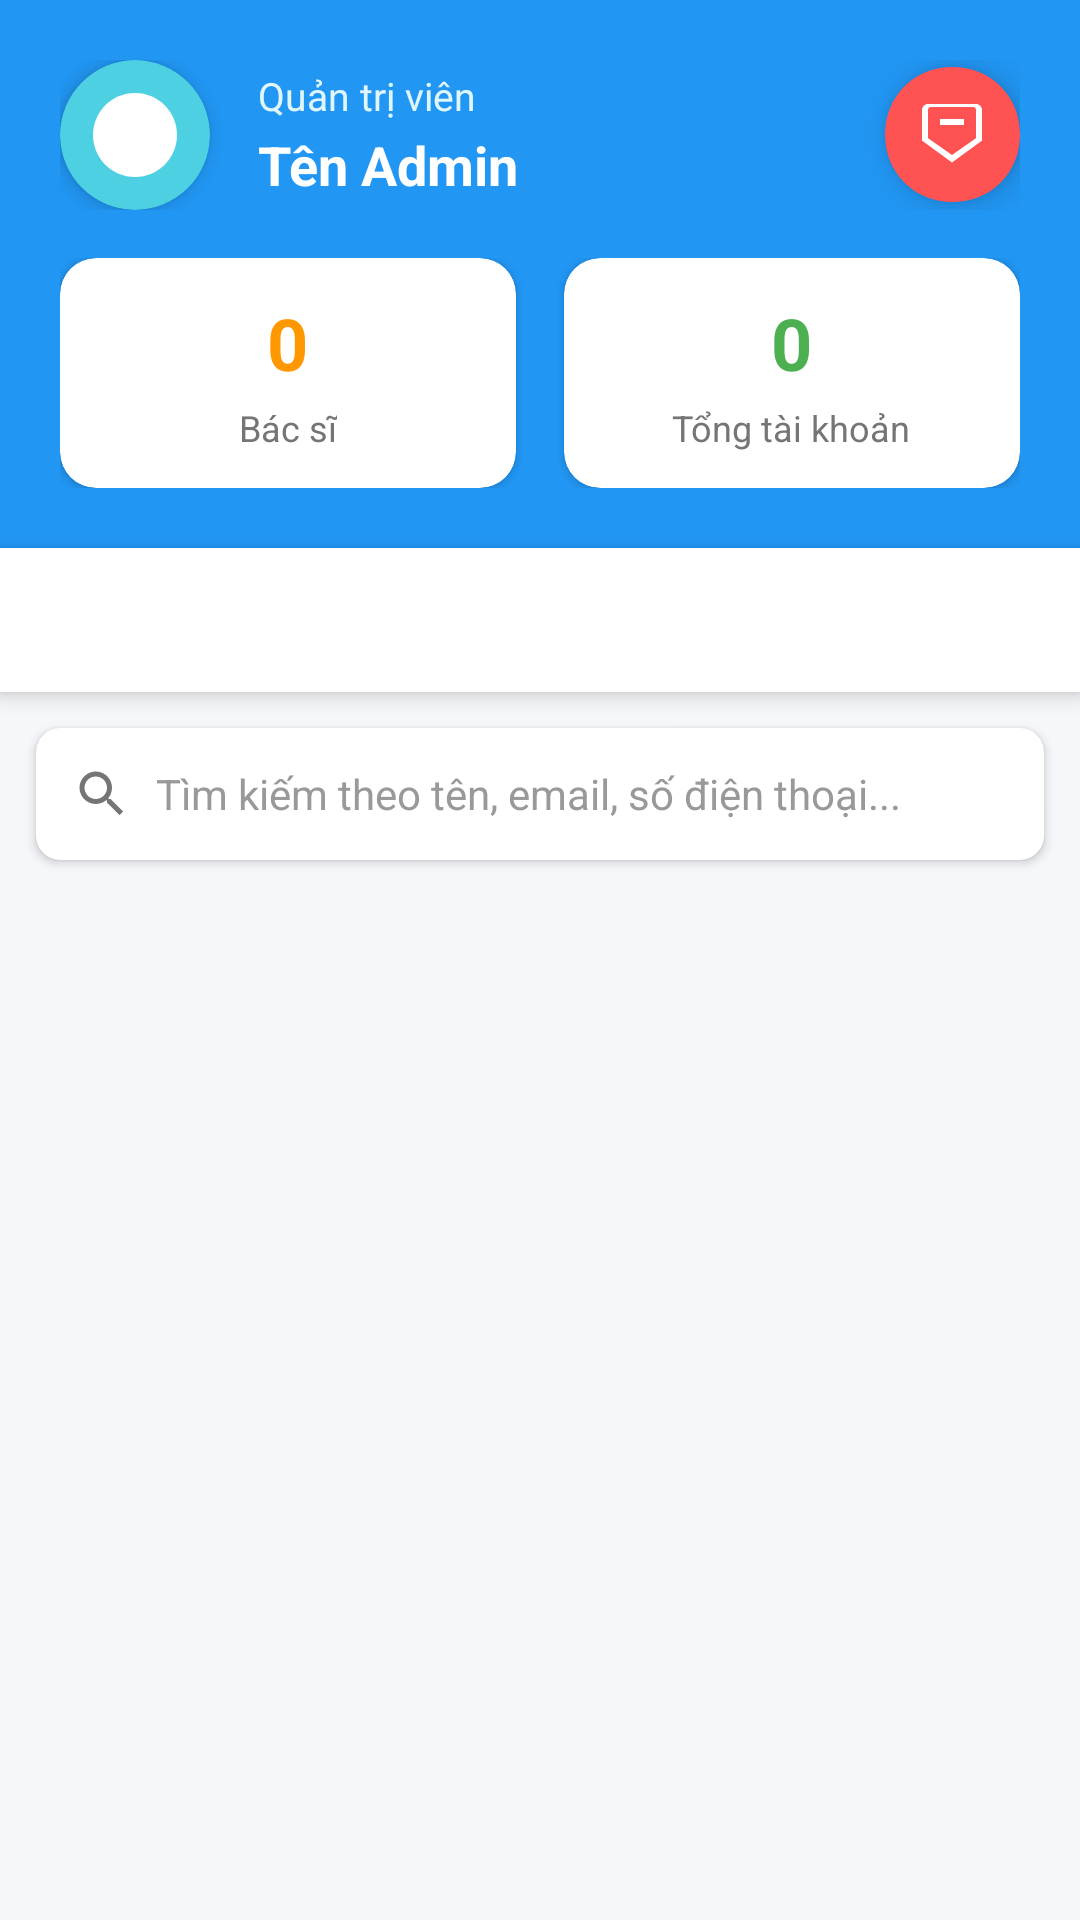

Named icons in this screenshot (1080×1920) and their bounding boxes, {"left": x1, "top": y1, "right": x2, "bottom": y2}:
search: {"left": 79, "top": 771, "right": 123, "bottom": 815}
